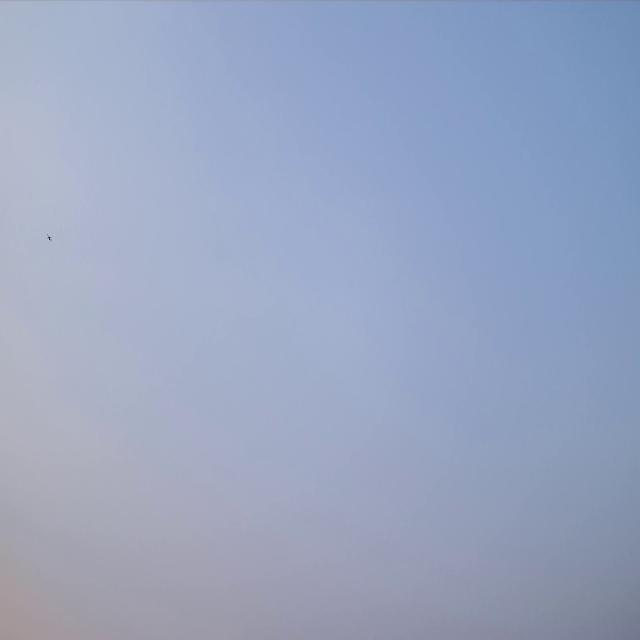UAV: (46, 234, 52, 242)
